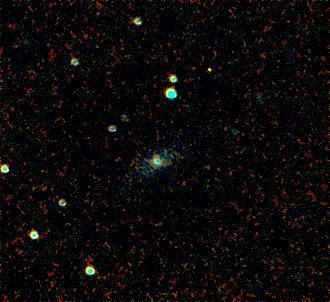star: (193, 56, 223, 86)
